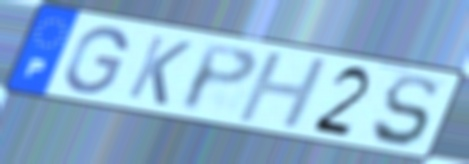2: (310, 65, 375, 140)
G: (60, 25, 131, 97)
H: (232, 50, 333, 131)
K: (123, 32, 196, 109)
P: (177, 41, 260, 115)
S: (368, 73, 440, 149)
